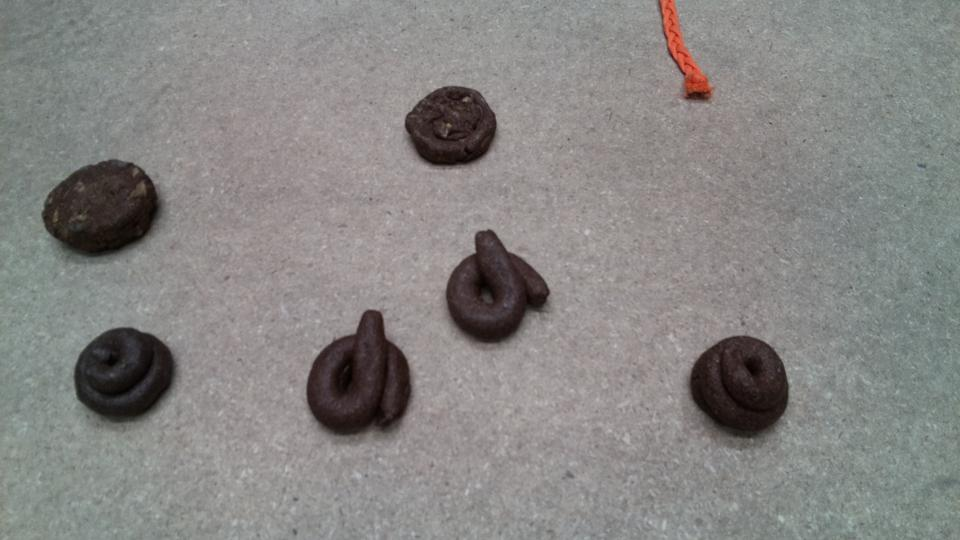poop: (303, 304, 413, 441), (443, 225, 553, 346), (38, 155, 163, 257), (686, 328, 796, 442), (70, 323, 180, 425), (401, 80, 501, 170)
rope: (656, 1, 719, 101)
